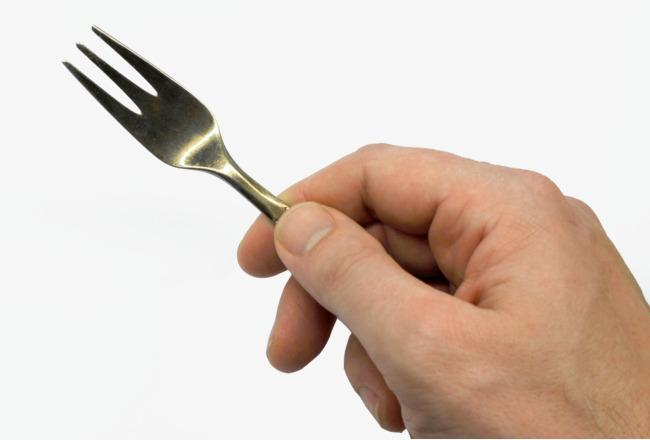no-phone: (60, 20, 645, 436)
